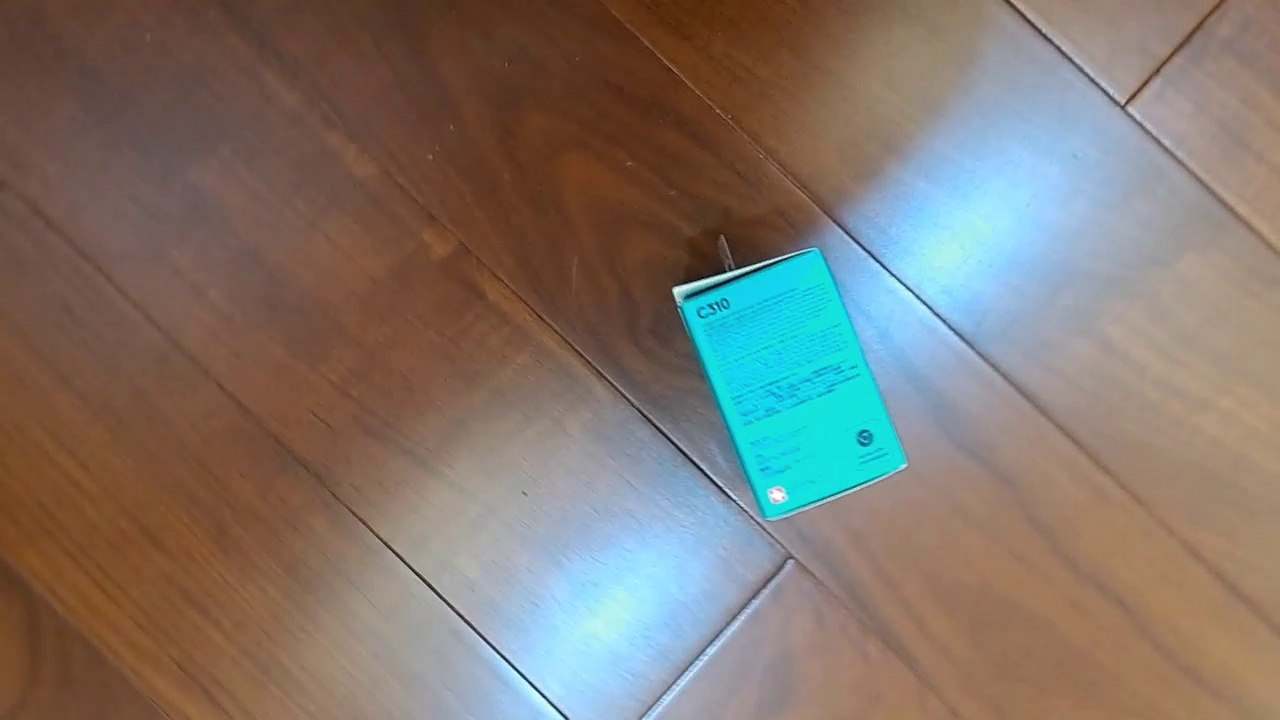webcam: (671, 246, 911, 524)
